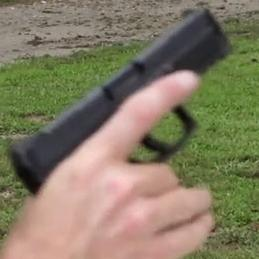gun: (1, 1, 259, 259)
